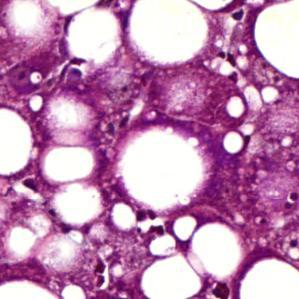steatosis: (191, 225, 244, 276), (45, 145, 94, 184), (220, 128, 246, 153)
